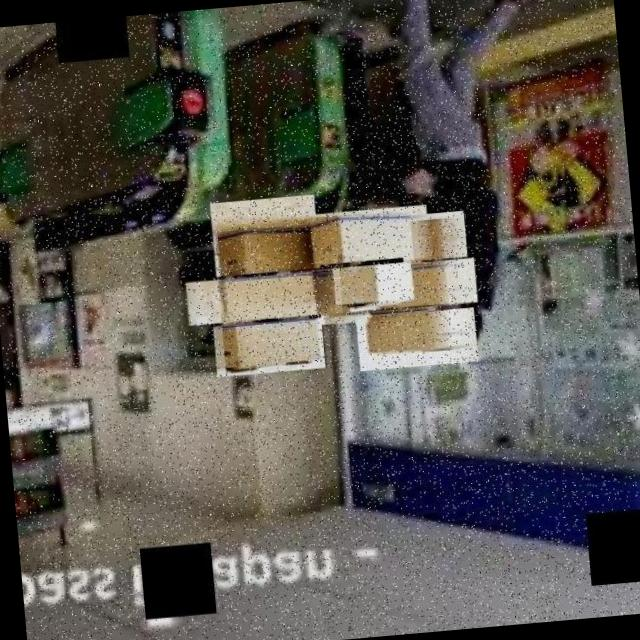box: (208, 192, 323, 278), (184, 268, 342, 326), (354, 304, 481, 371), (315, 202, 432, 265), (212, 314, 326, 378), (314, 260, 428, 324), (393, 256, 479, 308), (398, 208, 470, 262)
